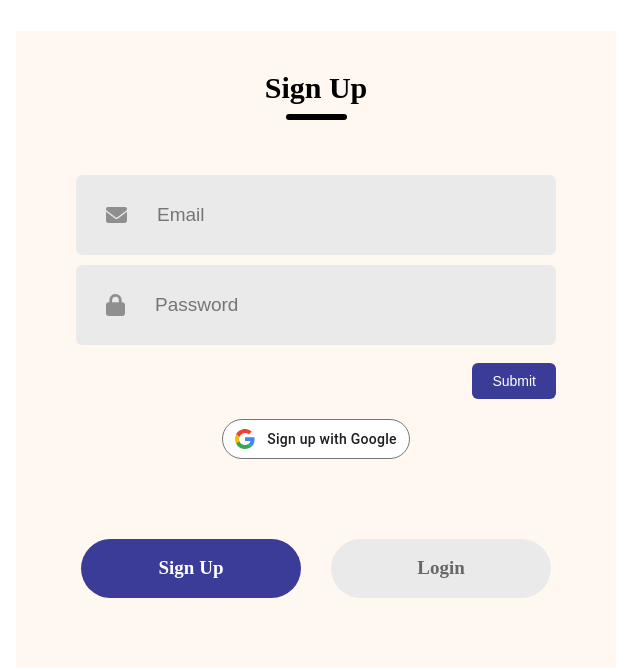
Test: Login Page › shows error when email/password login fails
The width and height of the screenshot is (633, 668).
(page scrolled)
Click the text "Login" at (441, 568), box [331,539,551,598]
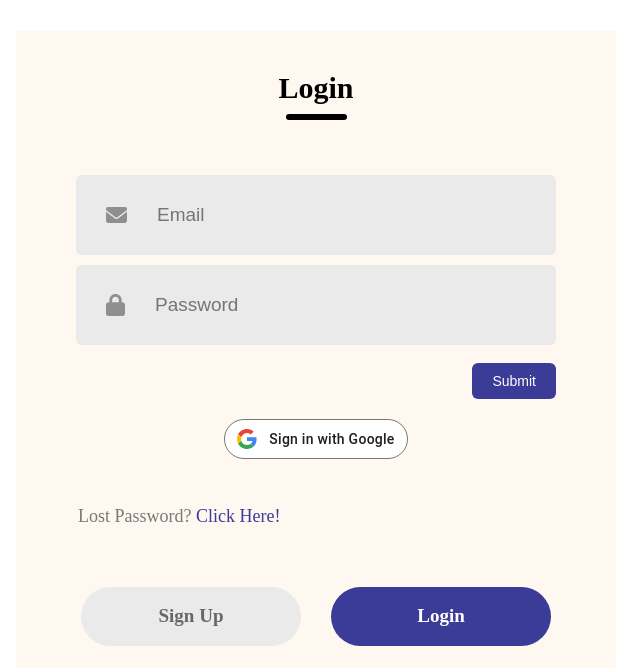
Type "bad@example.com" into the field with placeholder "Email" at (356, 215), box [157,190,556,240]
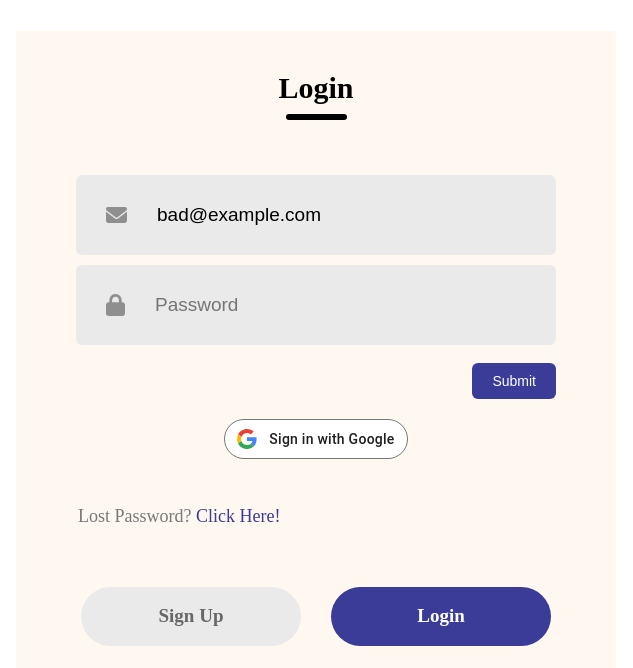
Type "wrongpass" into the password field with placeholder "Password" at (355, 305), box [155,280,555,330]
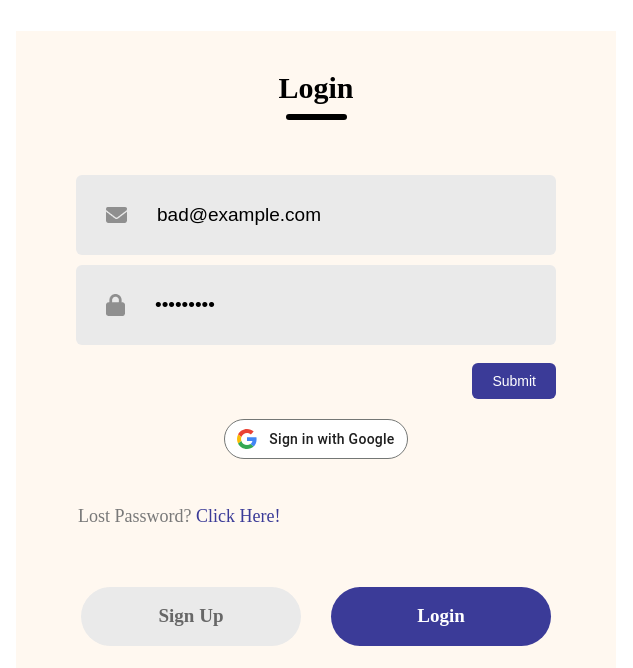
Click the button "Submit" at (514, 381), box [472,363,556,399]
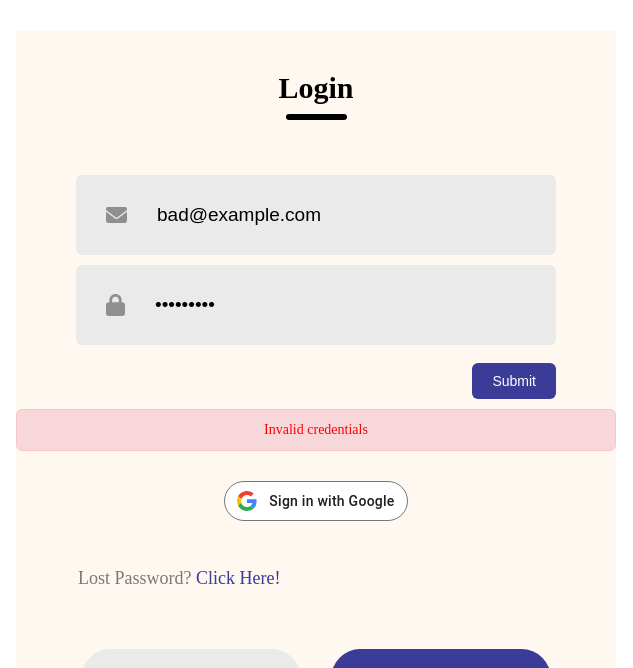
Result: the text "Invalid credentials" is shown at [16,409,616,451]
